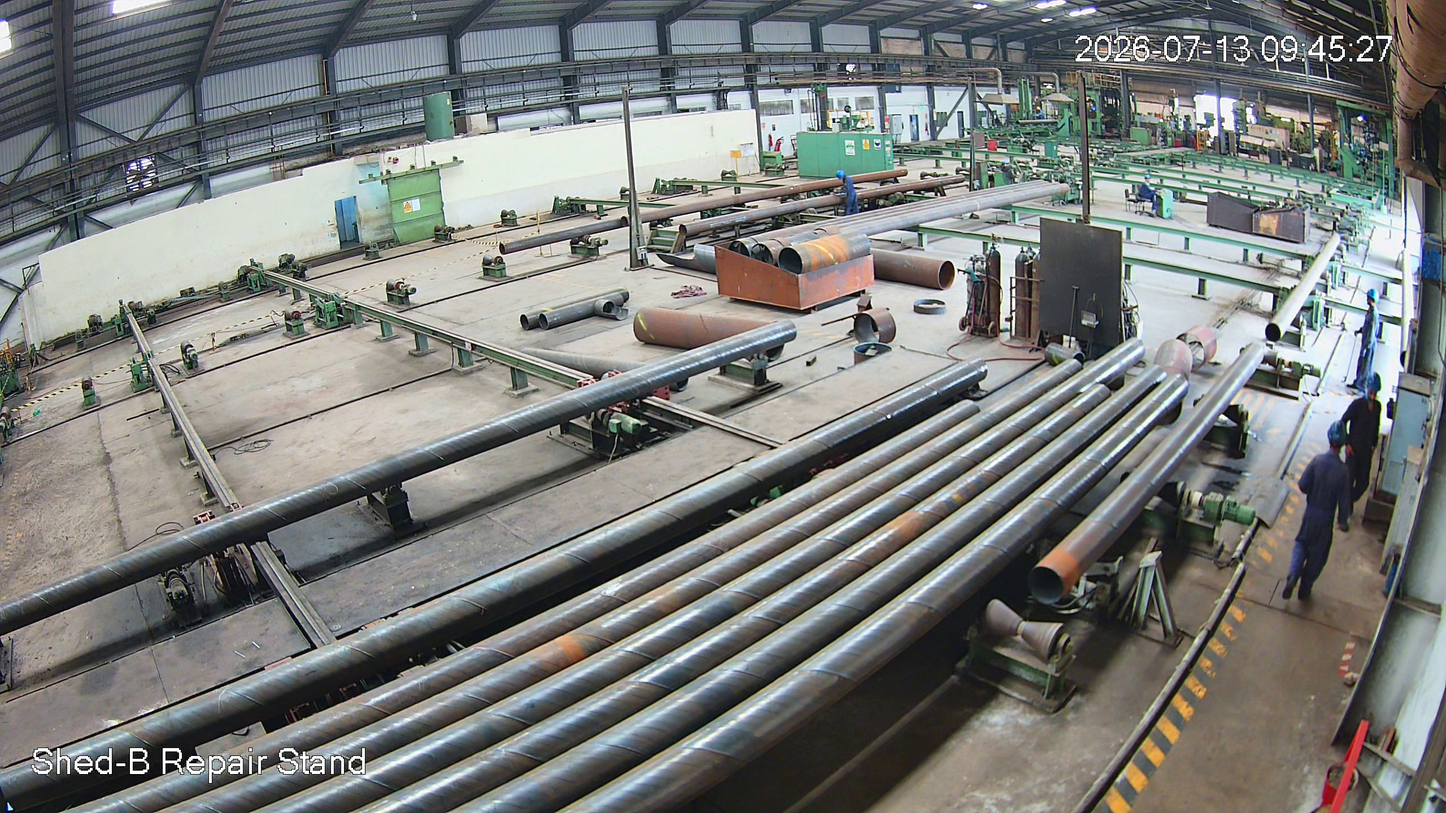Helmet: (1319, 418, 1358, 473), (1362, 372, 1393, 407), (1360, 285, 1386, 311), (835, 169, 846, 180)
Person: (1288, 420, 1354, 617), (1337, 374, 1387, 528), (1348, 289, 1382, 397), (834, 171, 860, 215)
